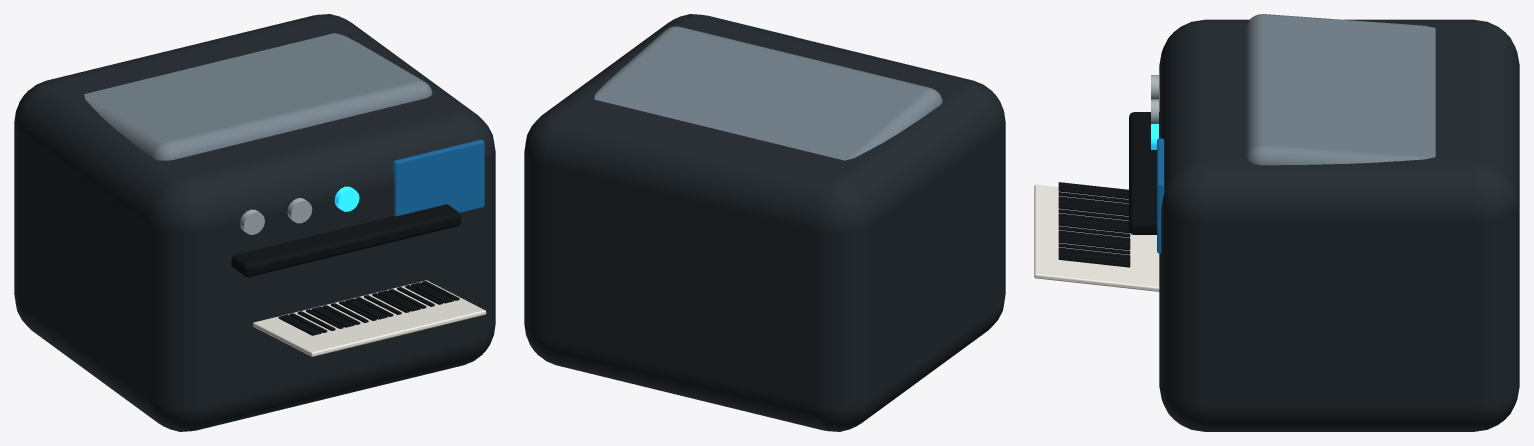
Rendered from label-printer.glb.
3 views of the same model, side by side, from view 1: azimuth 30°, elevation 25°; view 2: azimuth 150°, elevation 25°; view 3: azimuth 270°, elevation 25° (orthographic). The views are drawn at different scales.
Parts seen in each view (by area): view 1: Label printer enclosure, Media access lid, Label output slot, Printed barcode label, Printer display, Printer control (×3); view 2: Label printer enclosure, Media access lid; view 3: Label printer enclosure, Media access lid, Printed barcode label, Label output slot, Printer display.
Part boxes in pixels (left/top/right/bottom): Label printer enclosure: left=14, top=14, right=495, bottom=431; Media access lid: left=84, top=33, right=432, bottom=160; Label output slot: left=231, top=204, right=461, bottom=277; Printed barcode label: left=253, top=280, right=486, bottom=356; Printer display: left=393, top=139, right=484, bottom=216; Printer control (×3): left=240, top=186, right=359, bottom=234; Label printer enclosure: left=524, top=14, right=1005, bottom=431; Media access lid: left=594, top=26, right=942, bottom=160; Label printer enclosure: left=1159, top=19, right=1519, bottom=431; Media access lid: left=1246, top=14, right=1435, bottom=165; Printed barcode label: left=1034, top=184, right=1159, bottom=291; Label output slot: left=1129, top=112, right=1159, bottom=234; Printer display: left=1157, top=138, right=1164, bottom=253.
Bounding box in the file's own units: 1.45 × 1.07 × 1.68.
